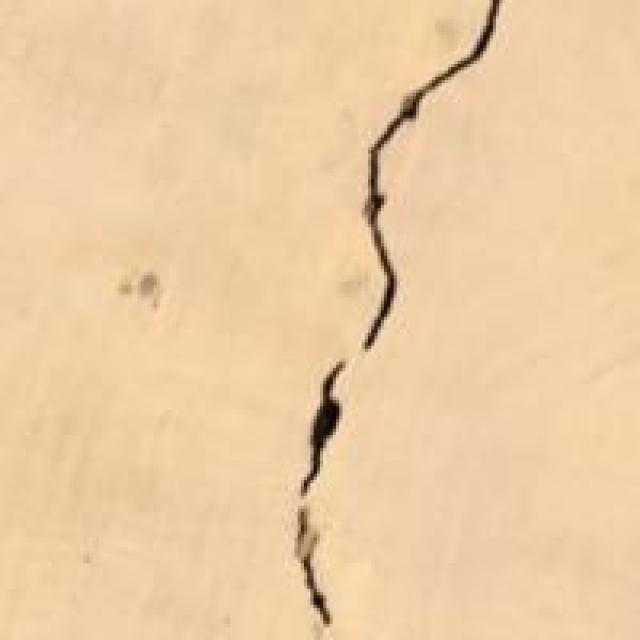crack: (266, 0, 531, 637)
